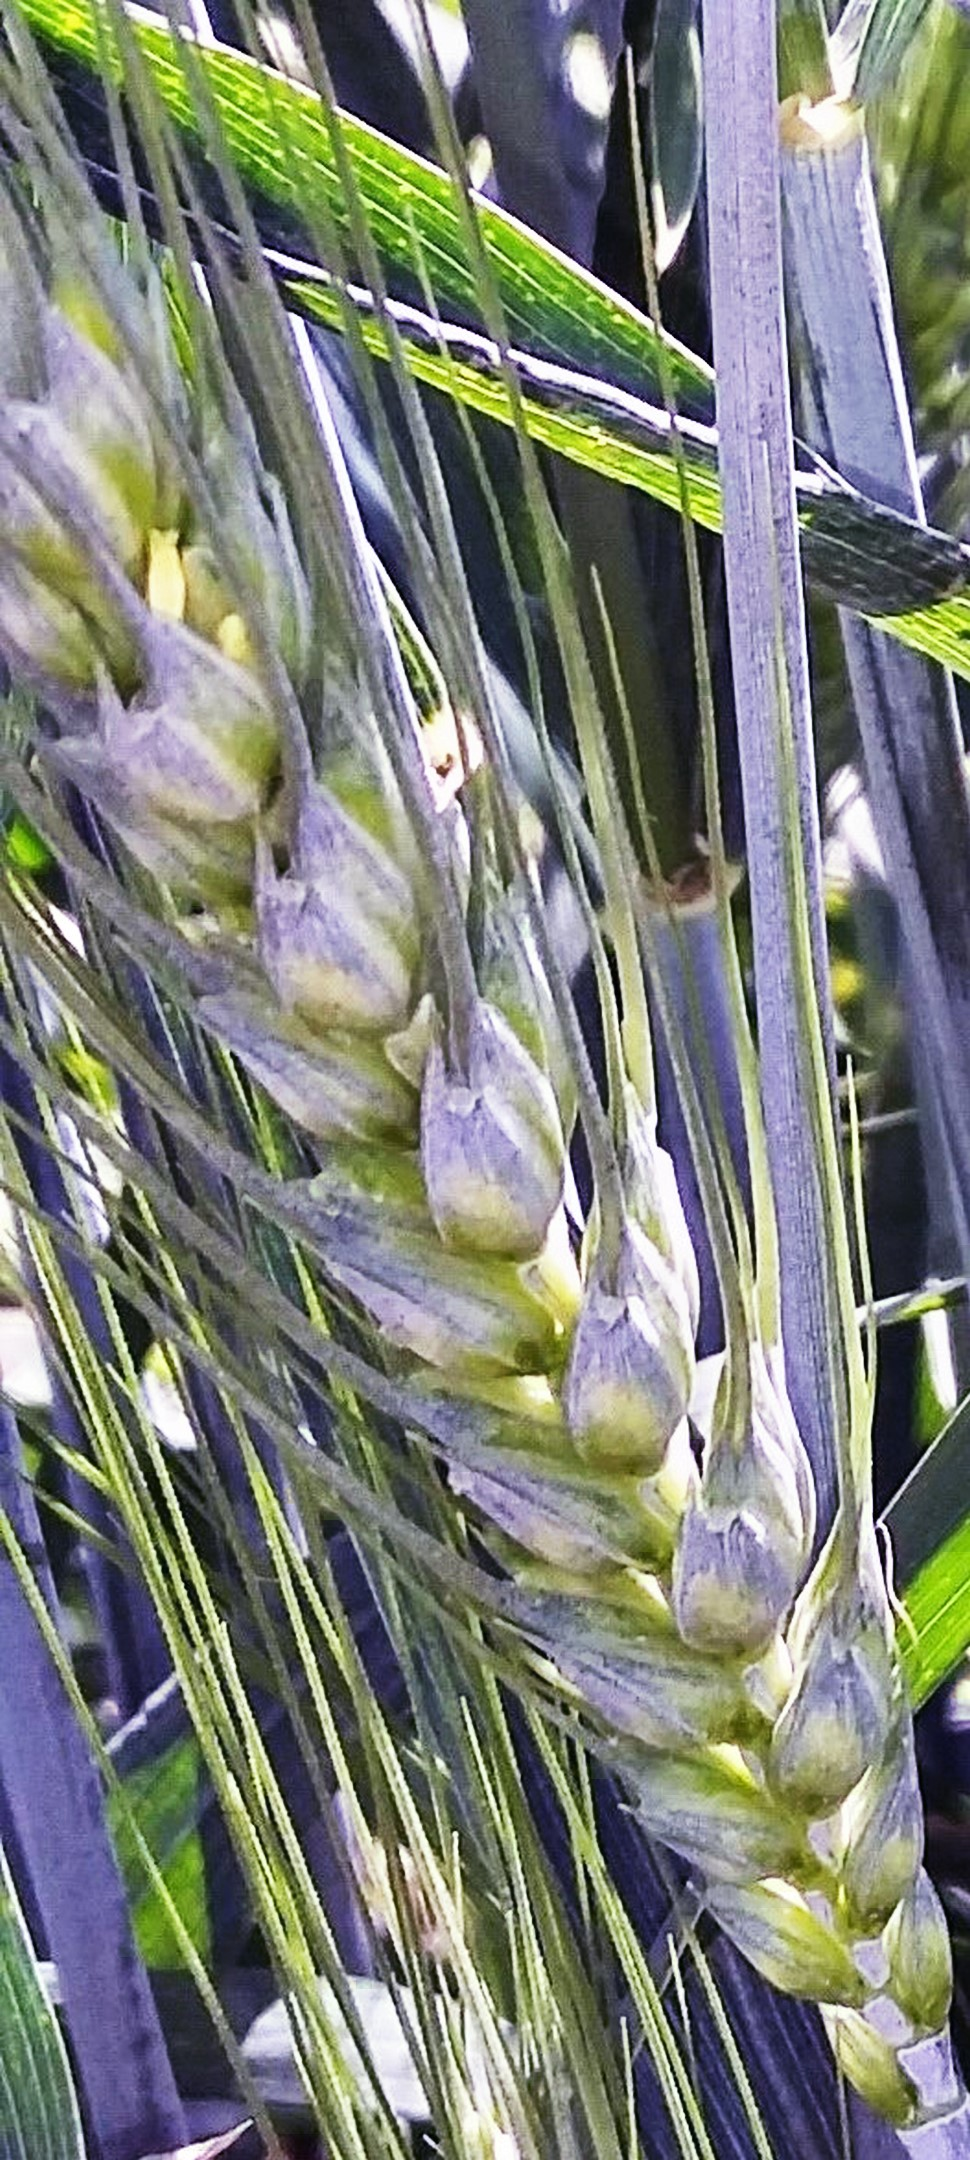Healthy Wheat: (28, 488, 970, 2149)
